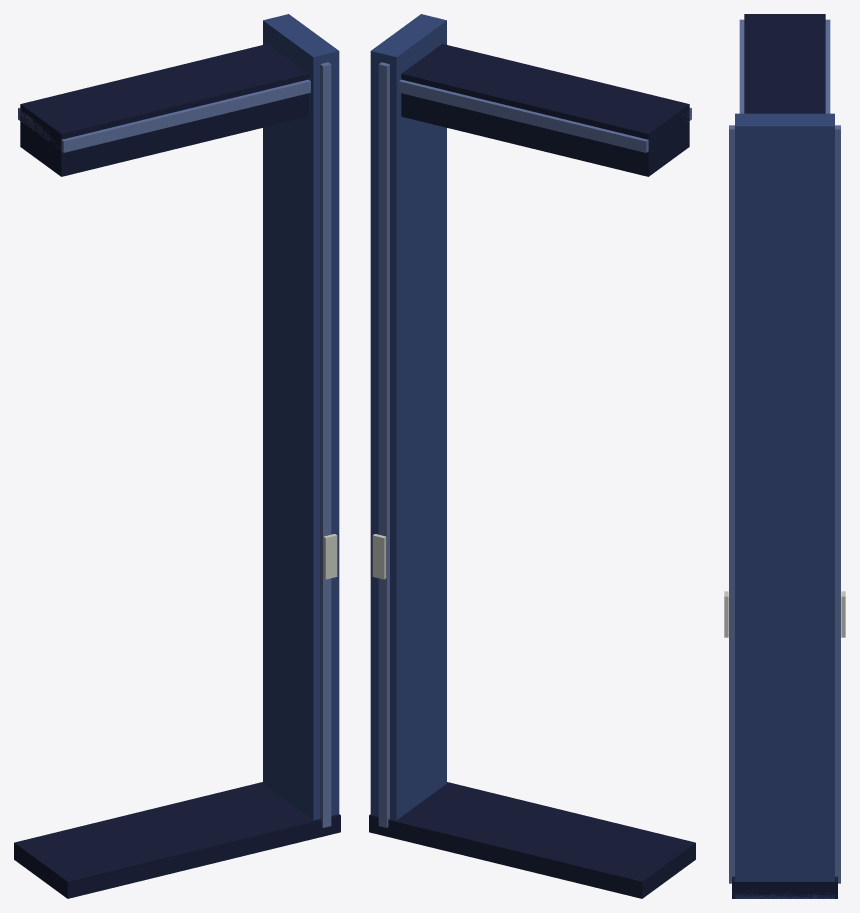
Rendered from CMU3DPairedCommandGlassOpen.glb.
3 renders of one model, left to right at view 1: azimuth 30°, elevation 25°; view 2: azimuth 150°, elevation 25°; view 3: azimuth 270°, elevation 25°, orthographic.
Parts seen in each view (by area): view 1: outer door jamb, continuous top track, threshold, outer jamb highlight, top track lip, outer access reader; view 2: outer door jamb, continuous top track, threshold, outer jamb highlight, top track lip, outer access reader back; view 3: outer door jamb, outer jamb highlight (×2), continuous top track, threshold, top track lip.
Boxes of the visible parts, x1,y1,x2,y2 form: outer door jamb: (263,14,339,820); continuous top track: (20,44,308,176); threshold: (14,782,340,898); outer jamb highlight: (320,62,331,827); top track lip: (18,79,310,152); outer access reader: (323,534,337,579); outer door jamb: (370,14,446,820); continuous top track: (401,44,689,176); threshold: (369,782,695,898); outer jamb highlight: (378,62,389,827); top track lip: (399,79,691,152); outer access reader back: (372,534,386,579); outer door jamb: (735,113,834,898); outer jamb highlight (×2): (729,125,840,883); continuous top track: (744,14,825,113); threshold: (732,876,837,898); top track lip: (739,19,830,113).
Bounding box in the file's own units: 1 × 2.73 × 0.388.
